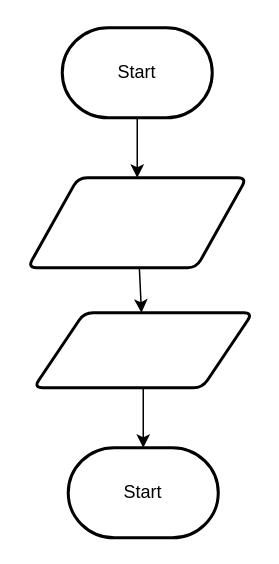
Some shapes in this 279 by 564 pixel diagram are drawn without their labels. Each missing label, with the centre of its shape:
Print "Done.": point (143, 349)
Print "Hello, World!": point (137, 222)
